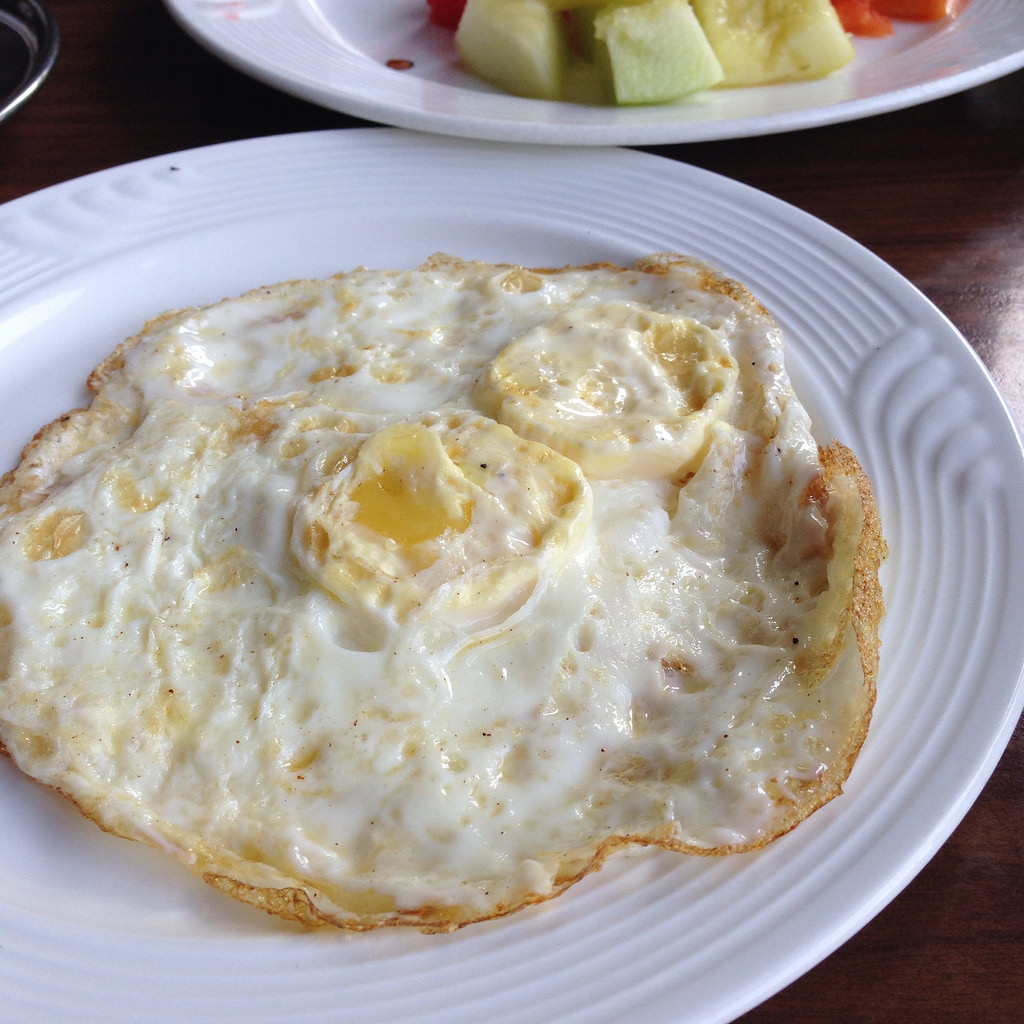fried egg: (20, 282, 898, 902)
